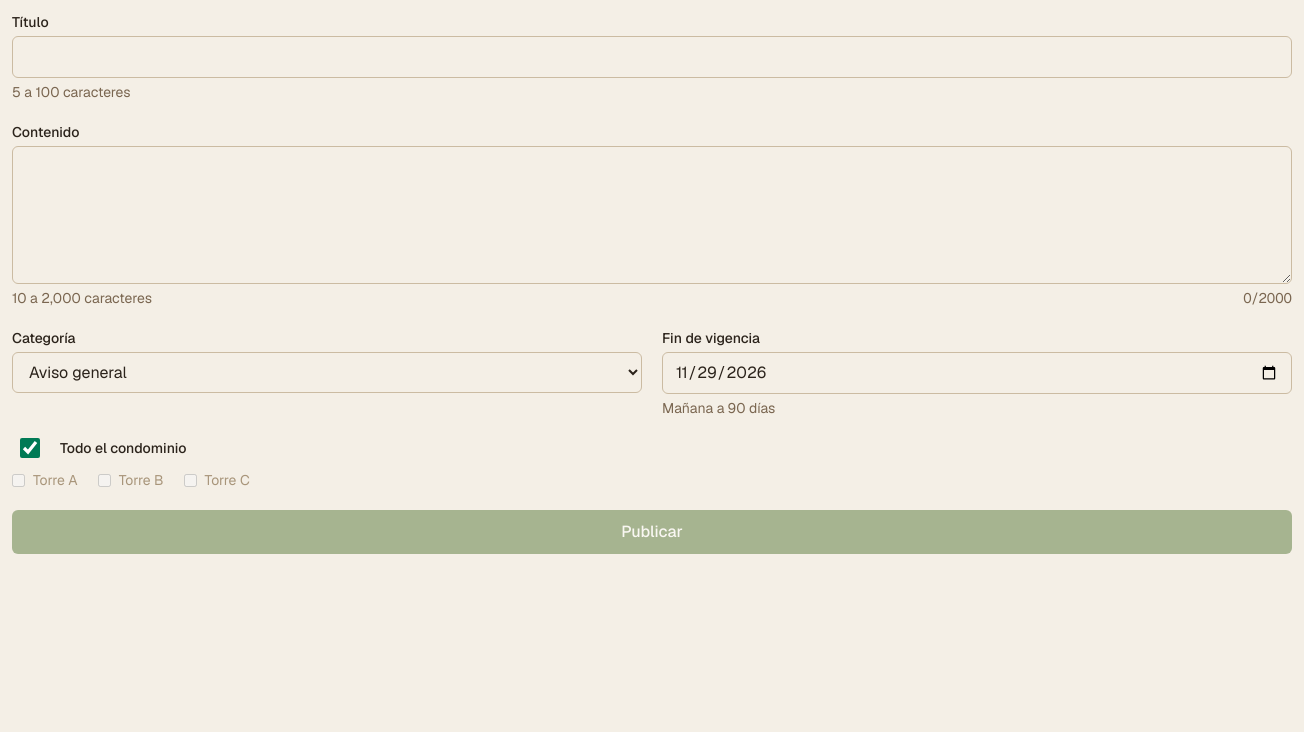
Test: H25. Publicación de comunicados segmentados › AC1: rechaza la fecha de fin de hoy
Type "Corte de agua el 4 de diciembre" into the field labelled "Título" at (652, 57), box top-left (12, 36), bottom-right (1292, 78)
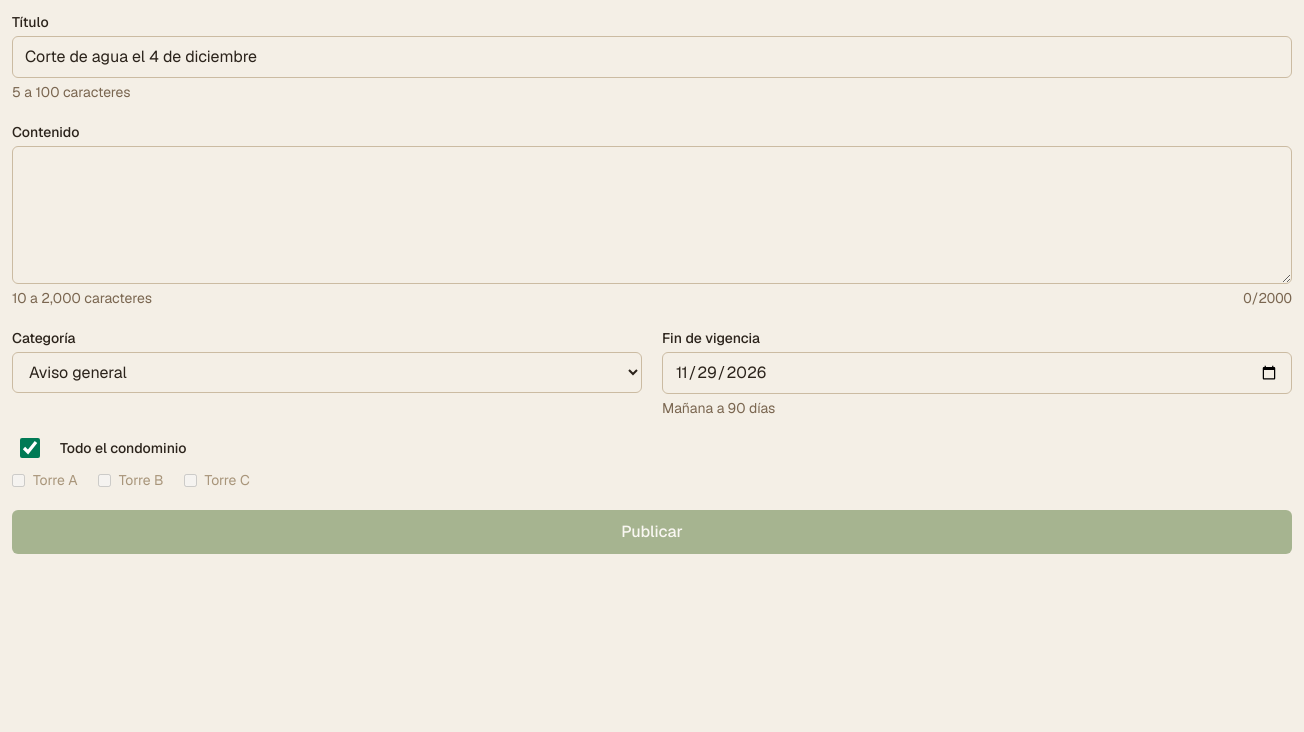
Type "No habrá agua de 08:00 a 16:00 en la Torre A." into the text box labelled "Contenido" at (652, 215), box top-left (12, 146), bottom-right (1292, 284)
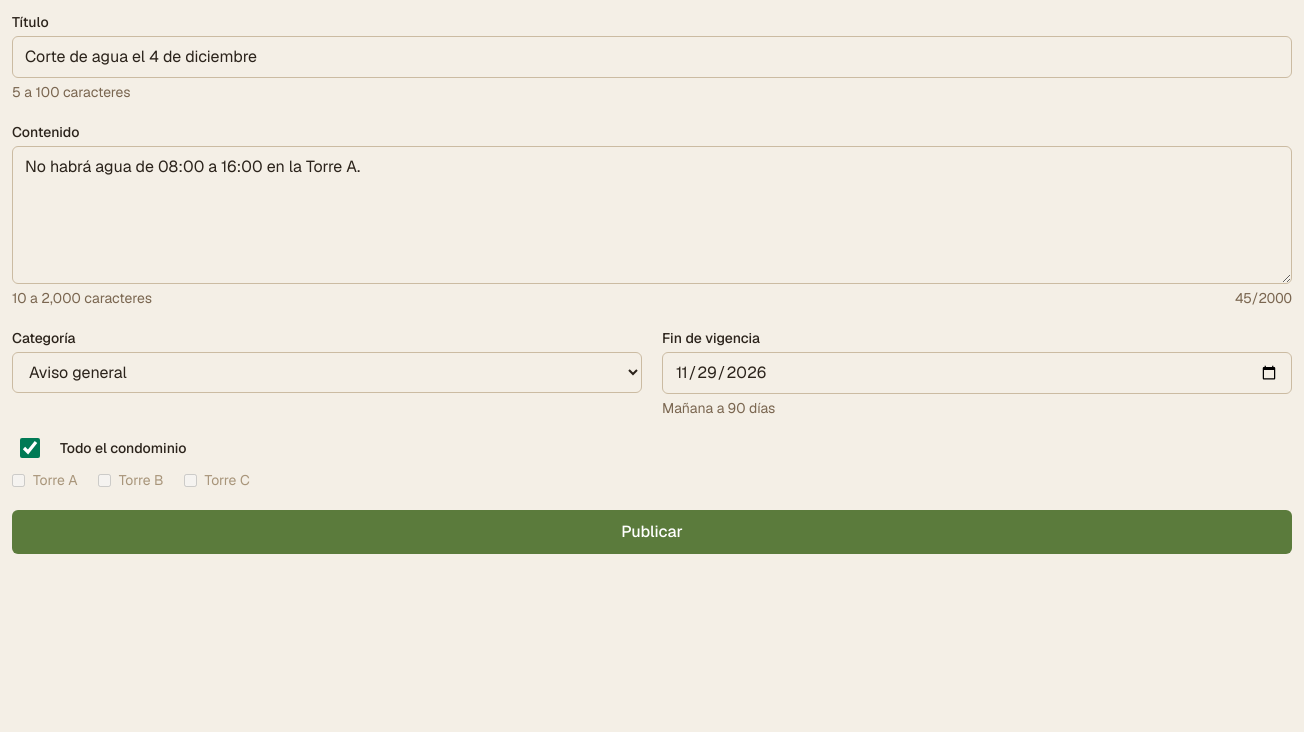
Type "2026-11-22" into the date field labelled "Fin de vigencia" at (977, 373), box top-left (662, 352), bottom-right (1292, 394)
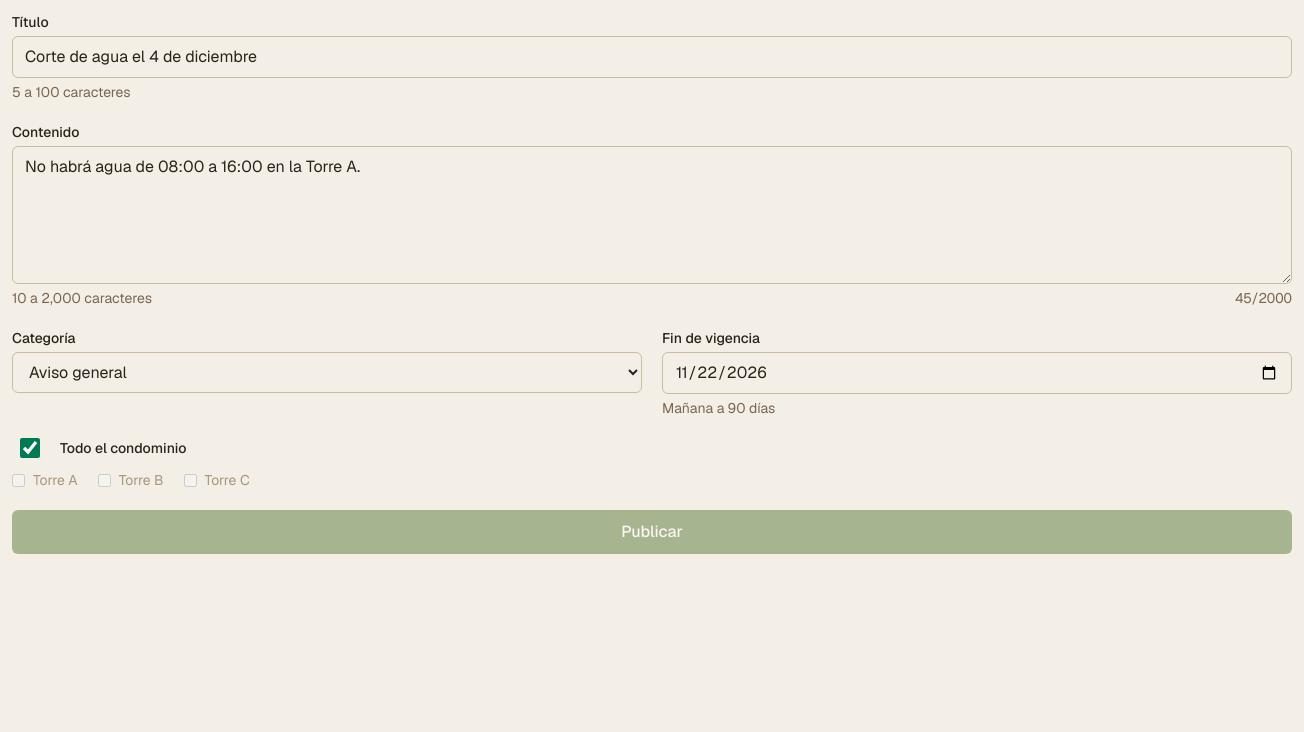
Leave the date field labelled "Fin de vigencia", box top-left (662, 352), bottom-right (1292, 394)
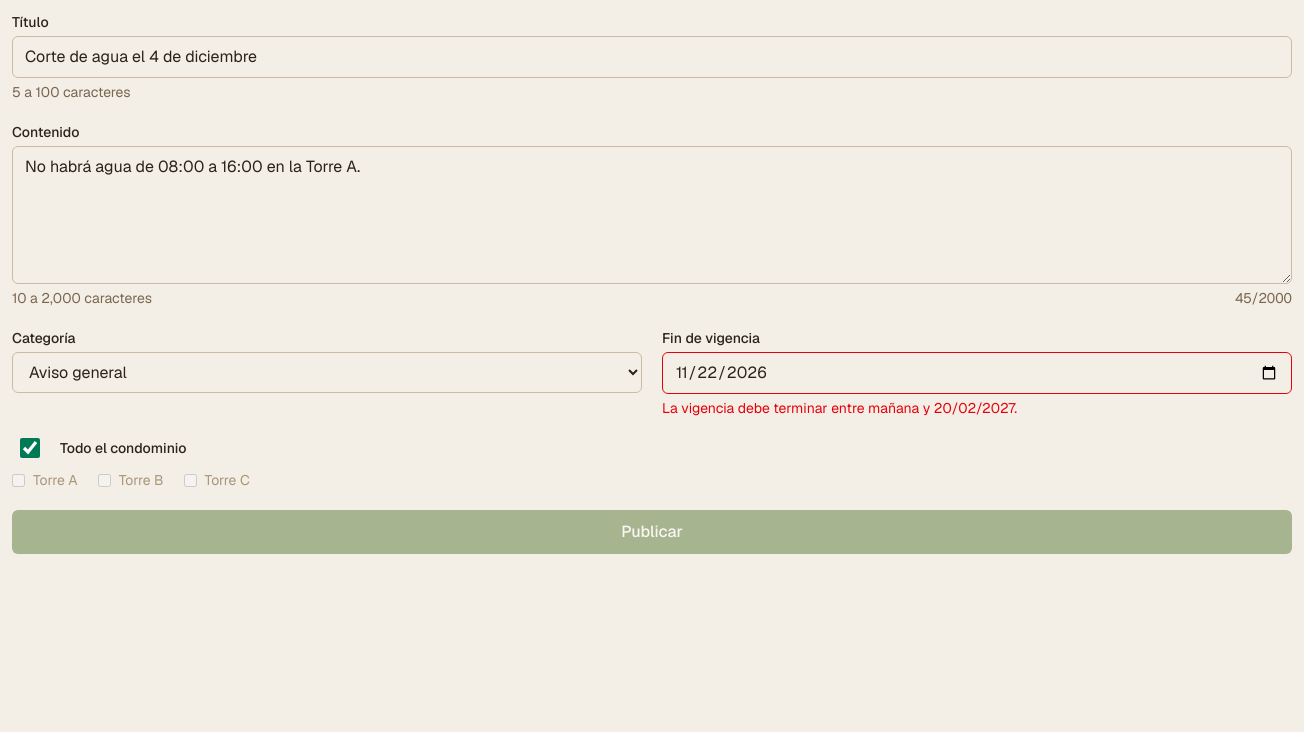
Result: the button "Publicar" is disabled at top-left (12, 510), bottom-right (1292, 554)
Result: the message reads "La vigencia debe terminar entre mañana y 20/02/2027." at top-left (662, 399), bottom-right (1017, 417)
